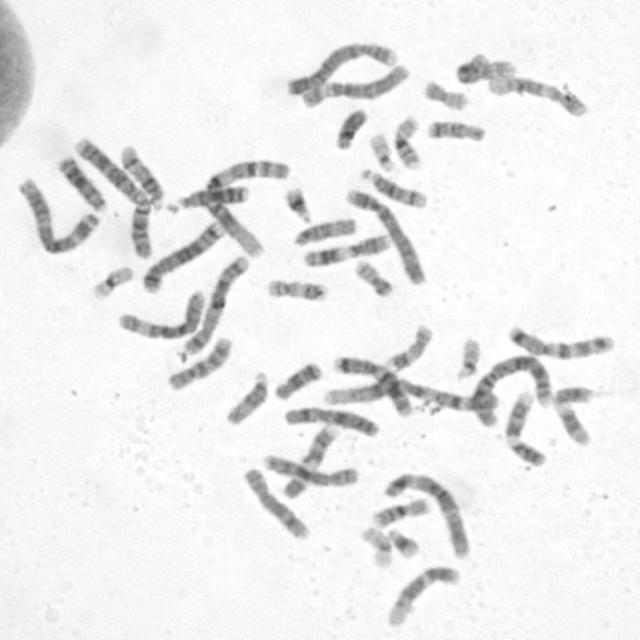A1: (199, 153, 293, 260), (322, 368, 504, 416)
A2: (69, 132, 155, 259), (467, 350, 556, 430)
A3: (379, 467, 474, 560), (13, 173, 102, 254)
B4: (342, 183, 429, 287), (281, 38, 400, 98)
B5: (176, 251, 252, 358), (140, 216, 228, 294)
C10: (163, 333, 235, 392), (452, 50, 518, 86)
C11: (550, 381, 598, 448), (302, 232, 391, 268)
C12: (384, 561, 463, 628), (486, 72, 590, 120)
C6: (296, 58, 413, 108), (115, 287, 206, 341)
C7: (328, 352, 413, 418), (504, 321, 618, 360)
C8: (241, 464, 310, 541), (259, 451, 360, 487)
C9: (278, 419, 340, 502), (502, 388, 548, 467)
D13: (54, 152, 110, 214), (162, 182, 252, 215)
D14: (118, 139, 169, 212), (357, 165, 429, 209)
D15: (222, 366, 270, 427), (290, 212, 358, 248)
E16: (369, 494, 432, 529), (390, 111, 426, 172)
E17: (380, 321, 434, 373), (262, 274, 330, 303)
E18: (271, 358, 322, 401), (424, 116, 487, 145)
F19: (86, 262, 136, 300), (358, 523, 393, 570)
F20: (351, 256, 397, 298), (420, 76, 470, 112)
G21: (281, 181, 314, 224), (384, 525, 422, 559)
G22: (452, 333, 482, 381), (367, 130, 398, 173)
X: (281, 402, 381, 439)
Y: (332, 104, 369, 151)
